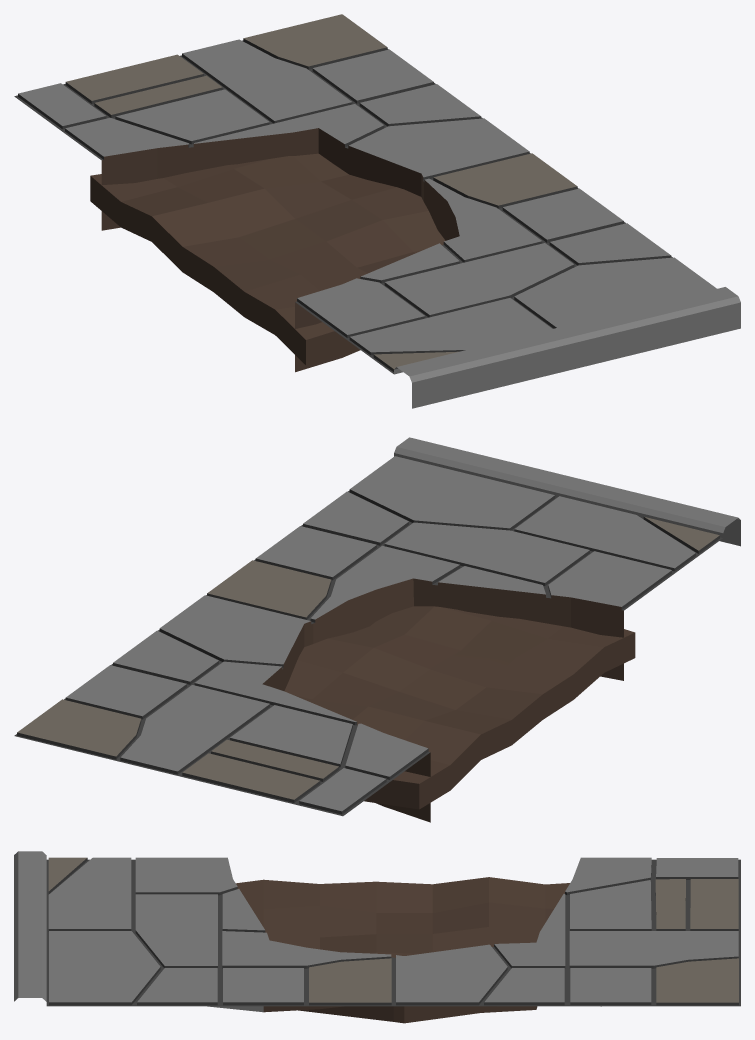
File: Walkway Modern Hole A - 1.fbx
The picture shows the model from 3 angles, top to bottom: view 1: azimuth 30°, elevation 25°; view 2: azimuth 150°, elevation 25°; view 3: azimuth 270°, elevation 25°; orthographic projection. The views are drawn at different scales.
Visible parts, largest first — view 1: Walkway Modern Hole A - 1.001; view 2: Walkway Modern Hole A - 1.001; view 3: Walkway Modern Hole A - 1.001.
Part boxes in pixels (left/top/right/bottom): Walkway Modern Hole A - 1.001: left=14, top=14, right=740, bottom=408; Walkway Modern Hole A - 1.001: left=14, top=437, right=740, bottom=822; Walkway Modern Hole A - 1.001: left=14, top=851, right=740, bottom=1023.
Size of the model in its own units: 305 by 638 by 70.48.
